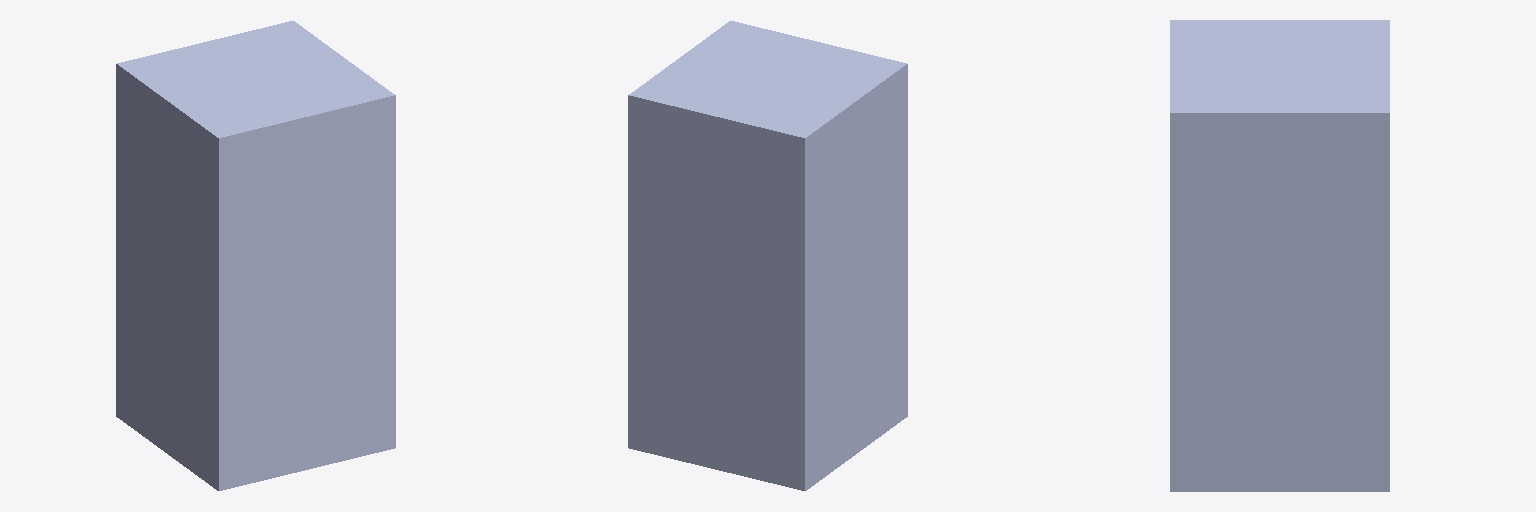
URDF robot description (building):
<?xml version="1.0" encoding="utf-8"?>
<!-- This URDF was automatically created by SolidWorks to URDF Exporter! Originally created by [author] ([email redacted]) 
     Commit Version: 1.6.0-1-g15f4949  Build Version: 1.6.7594.29634
     For more information, please see http://wiki.ros.org/sw_urdf_exporter -->
<robot
  name="building">
  <link
    name="base_link">
    <inertial>
      <origin
        xyz="1.652 1.652 3.15"
        rpy="0 0 0" />
      <mass
        value="68773.4208" />
      <inertia
        ixx="290031.361895654"
        ixy="-6.1198350296839E-12"
        ixz="1.90728618084298E-11"
        iyy="290031.361895654"
        iyz="4.51849540420805E-12"
        izz="125126.545199309" />
    </inertial>
    <visual>
      <origin
        xyz="0 0 0"
        rpy="0 0 0" />
      <geometry>
        <mesh
          filename="package://building/meshes/base_link.STL" />
      </geometry>
      <material
        name="">
        <color
          rgba="0.792156862745098 0.819607843137255 0.933333333333333 1" />
      </material>
    </visual>
    <collision>
      <origin
        xyz="0 0 0"
        rpy="0 0 0" />
      <geometry>
        <mesh
          filename="package://building/meshes/base_link.STL" />
      </geometry>
    </collision>
  </link>


<gazebo>
    <static>true</static>
</gazebo>

<gazebo reference = 'base_link'>
<material> Grey</material>
</gazebo>

</robot>

--- Render facts (derived) ---
3 views of the same robot in one strip: view 1: azimuth 30°, elevation 25°; view 2: azimuth 150°, elevation 25°; view 3: azimuth 270°, elevation 25° (orthographic).
Robot: building — 1 links, 0 joints (none); root link base_link; default pose: all joints at 0.
Visible links, largest first — view 1: base_link; view 2: base_link; view 3: base_link.
Boxes of the visible links, x1=… form: base_link: x1=116, y1=21, x2=395, y2=490; base_link: x1=628, y1=21, x2=907, y2=490; base_link: x1=1170, y1=20, x2=1389, y2=491.
Size in the robot's own frame: 3.3 by 3.3 by 6.3 metres.
1 mesh visuals loaded from 1 distinct referenced files (1 binary STL).